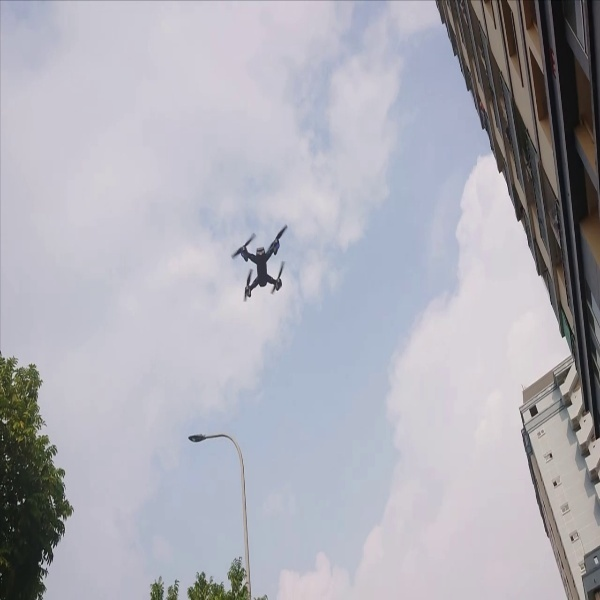drone: (219, 222, 293, 312)
